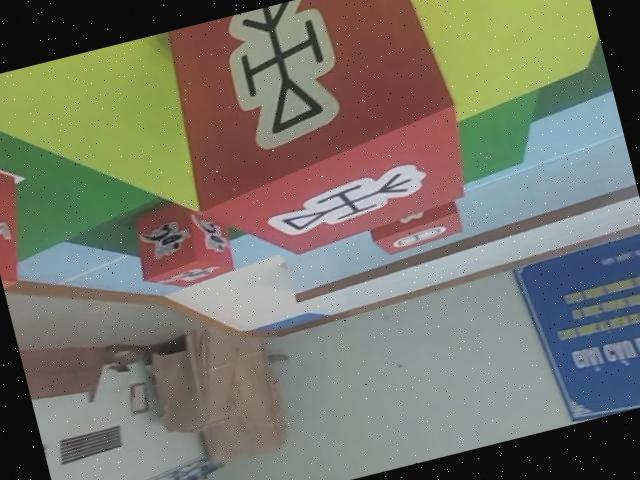R1: (123, 189, 242, 301), (0, 104, 38, 300)
R2 Real: (150, 0, 480, 278)
